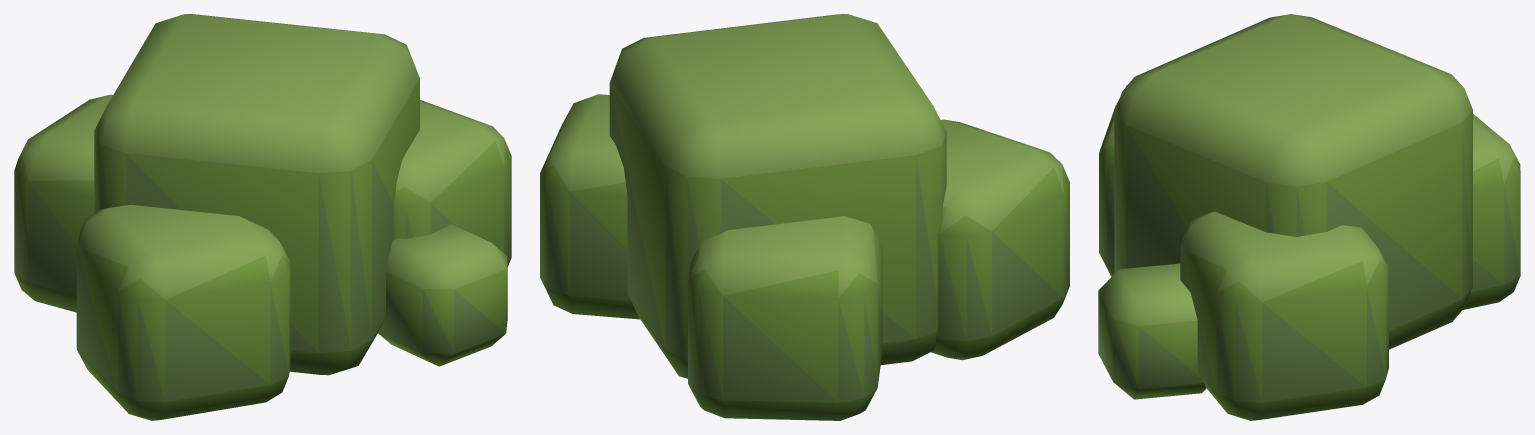
File: itch_kaykit_forest_bush_2_e_color1.glb
3 views of the same model, side by side, from view 1: azimuth 30°, elevation 25°; view 2: azimuth 150°, elevation 25°; view 3: azimuth 270°, elevation 25° (orthographic). The views are drawn at different scales.
Visible parts, largest first — view 1: Bush_2_E_Color1; view 2: Bush_2_E_Color1; view 3: Bush_2_E_Color1.
Part boxes in pixels (x1=…): Bush_2_E_Color1: x1=14, y1=14, x2=511, y2=420; Bush_2_E_Color1: x1=540, y1=14, x2=1069, y2=420; Bush_2_E_Color1: x1=1098, y1=14, x2=1520, y2=420.
Size of the model in its own units: 0.96 by 0.5446 by 0.8203.
